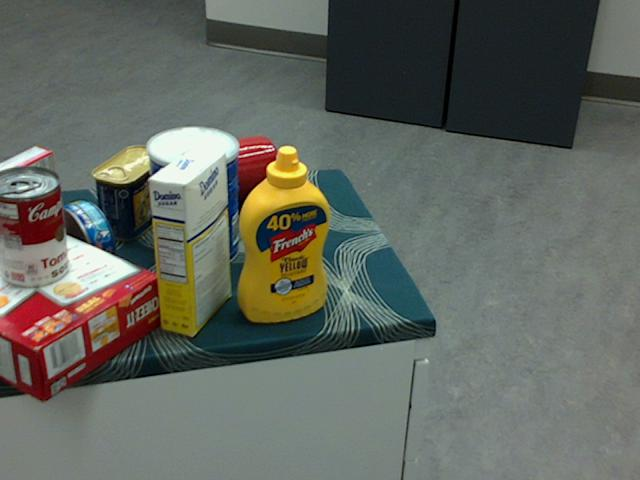cracker_box: (0, 211, 161, 401)
gelatin_box: (0, 146, 56, 228)
large_marker: (274, 152, 290, 245)
master_chef_can: (144, 125, 237, 272)
mug: (194, 134, 280, 209)
mustard_bottle: (237, 144, 330, 321)
potted_meat_can: (90, 143, 165, 241)
sugar_box: (146, 146, 231, 335)
tomato_soup_can: (0, 166, 68, 288)
tuna_fish_can: (45, 200, 113, 280)
